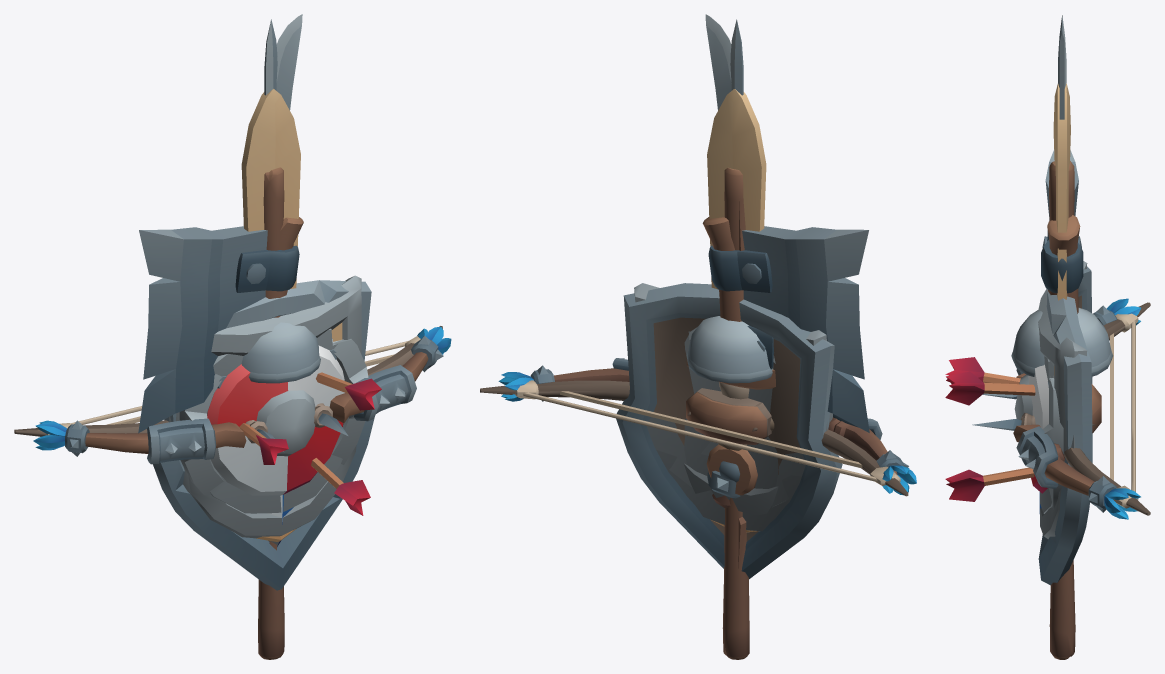
File: items2.glb
The picture shows the model from 3 angles, left to right: view 1: azimuth 30°, elevation 25°; view 2: azimuth 150°, elevation 25°; view 3: azimuth 270°, elevation 25°; orthographic projection.
Visible parts, largest first — view 1: axe_C, shield_round_color, bow_B_withString, shield_B, shield_badge_color, Skeleton_Shield_Small_B, sword_A, sword_D, staff_A, bow_A_withString, sword_C; view 2: shield_B, axe_C, sword_A, bow_B_withString, sword_D, bow_A_withString, staff_A, shield_badge_color, shield_round_color, shield_A, sword_C, Skeleton_Shield_Small_B; view 3: shield_B, bow_B_withString, Skeleton_Shield_Small_B, sword_D, axe_C, staff_A, shield_badge_color, bow_A_withString, sword_A, shield_round_color, sword_C, shield_A.
Boxes of the visible parts, x1,y1,x2,y2 form: axe_C: [138, 217, 303, 433]; shield_round_color: [207, 328, 344, 513]; bow_B_withString: [33, 326, 451, 464]; shield_B: [153, 280, 374, 590]; shield_badge_color: [169, 275, 361, 538]; Skeleton_Shield_Small_B: [179, 339, 381, 515]; sword_A: [241, 89, 300, 288]; sword_D: [241, 19, 320, 383]; staff_A: [258, 167, 284, 659]; bow_A_withString: [14, 326, 442, 436]; sword_C: [276, 14, 302, 110]; shield_B: [616, 283, 842, 579]; axe_C: [702, 217, 869, 508]; sword_A: [686, 89, 775, 495]; bow_B_withString: [498, 358, 916, 495]; sword_D: [686, 19, 772, 482]; bow_A_withString: [480, 380, 908, 496]; staff_A: [722, 167, 749, 659]; shield_badge_color: [634, 283, 827, 531]; shield_round_color: [646, 335, 805, 506]; shield_A: [686, 392, 766, 532]; sword_C: [705, 14, 731, 110]; Skeleton_Shield_Small_B: [684, 327, 832, 515]; shield_B: [1038, 266, 1092, 585]; bow_B_withString: [972, 298, 1140, 519]; Skeleton_Shield_Small_B: [945, 357, 1064, 509]; sword_D: [1011, 15, 1113, 376]; axe_C: [1041, 149, 1083, 313]; staff_A: [1049, 161, 1075, 659]; shield_badge_color: [1038, 261, 1087, 539]; bow_A_withString: [1064, 302, 1150, 515]; sword_A: [1053, 83, 1070, 300]; shield_round_color: [1014, 356, 1054, 513]; sword_C: [1059, 32, 1064, 119]; shield_A: [1048, 366, 1101, 433].
Size of the model in its own units: 1.96 by 2.79 by 0.8092.
3 materials, 3 textured.
